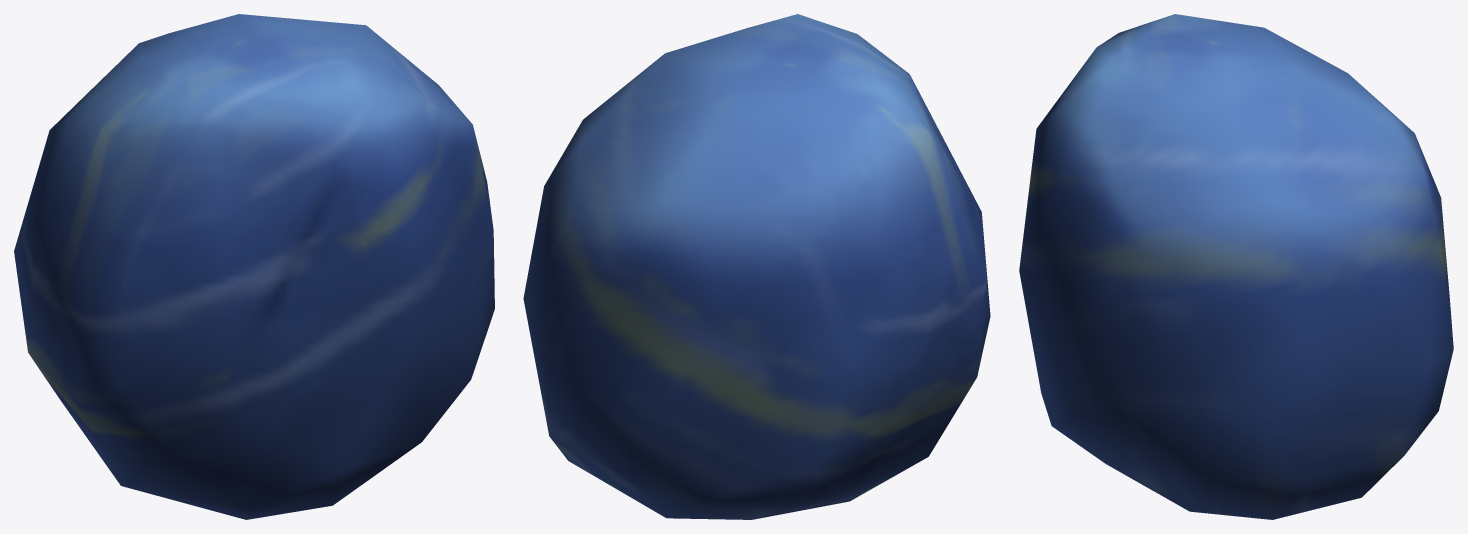
Rendered from SM_Gem_LapisLazuli_Piece_003.fbx.
3 renders of one model, left to right at view 1: azimuth 30°, elevation 25°; view 2: azimuth 150°, elevation 25°; view 3: azimuth 270°, elevation 25°, orthographic. The views are drawn at different scales.
Parts seen in each view (by area): view 1: SM_Gem_LapisLazuli_Piece_003; view 2: SM_Gem_LapisLazuli_Piece_003; view 3: SM_Gem_LapisLazuli_Piece_003.
Boxes of the visible parts, left/top/right/bottom form: SM_Gem_LapisLazuli_Piece_003: left=14, top=14, right=494, bottom=519; SM_Gem_LapisLazuli_Piece_003: left=523, top=14, right=990, bottom=519; SM_Gem_LapisLazuli_Piece_003: left=1019, top=14, right=1453, bottom=519.
Size of the model in its own units: 15.48 by 15.91 by 14.44.
